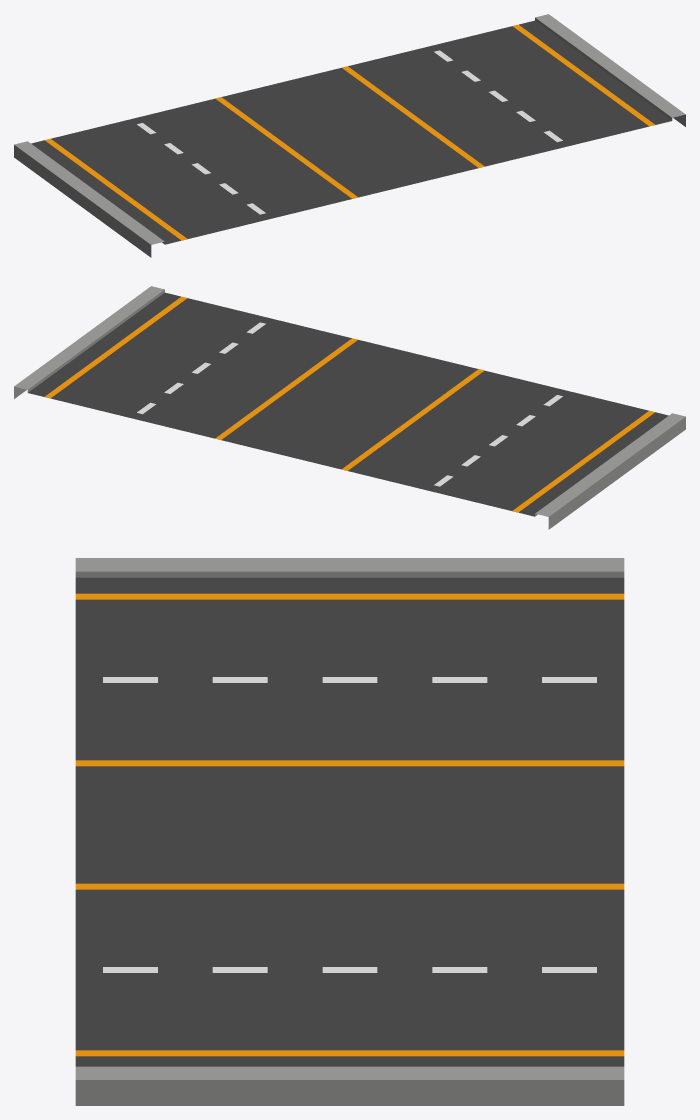
File: Road_A_2L_1_1.fbx
3 renders of one model, top to bottom at view 1: azimuth 30°, elevation 25°; view 2: azimuth 150°, elevation 25°; view 3: azimuth 270°, elevation 25°, orthographic. The views are drawn at different scales.
Parts seen in each view (by area): view 1: Road_A_2L_1_1; view 2: Road_A_2L_1_1; view 3: Road_A_2L_1_1.
Boxes of the visible parts, x1,y1,x2,y2 form: Road_A_2L_1_1: (14,14,685,257); Road_A_2L_1_1: (14,286,685,529); Road_A_2L_1_1: (75,558,624,1105).
Size of the model in its own units: 1800 by 41.48 by 800.
